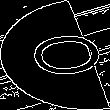O_E: (8, 28, 102, 82)
